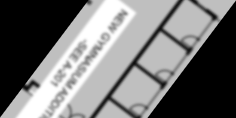door: (81, 0, 191, 118), (160, 27, 191, 53), (153, 63, 175, 85), (127, 98, 149, 118)
double door: (179, 30, 200, 51)
wall: (133, 60, 168, 89), (108, 96, 141, 118)
